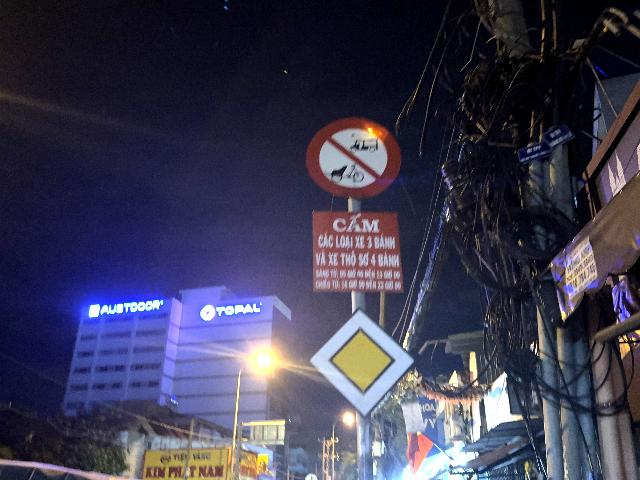bat-dau-duong-uu-tien: (309, 306, 416, 418)
cam-xe-3-banh-xe-tho-so-4-banh: (306, 117, 401, 199)
